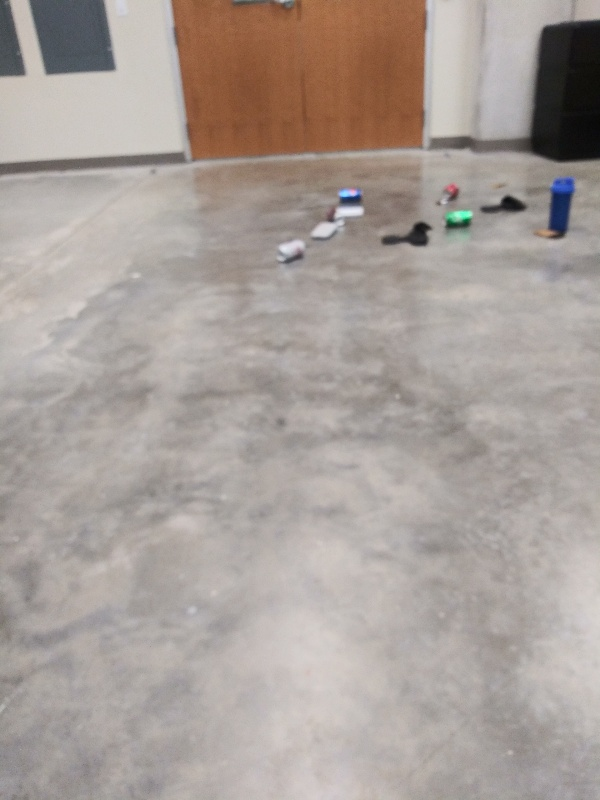can: (275, 236, 307, 264), (441, 208, 475, 229), (337, 185, 367, 205), (439, 183, 464, 200), (325, 209, 347, 228)
